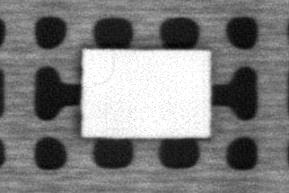DIE_CRACK: (92, 58, 117, 86)
